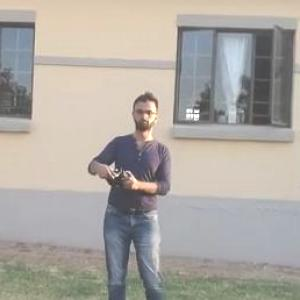follow: (80, 86, 174, 299)
